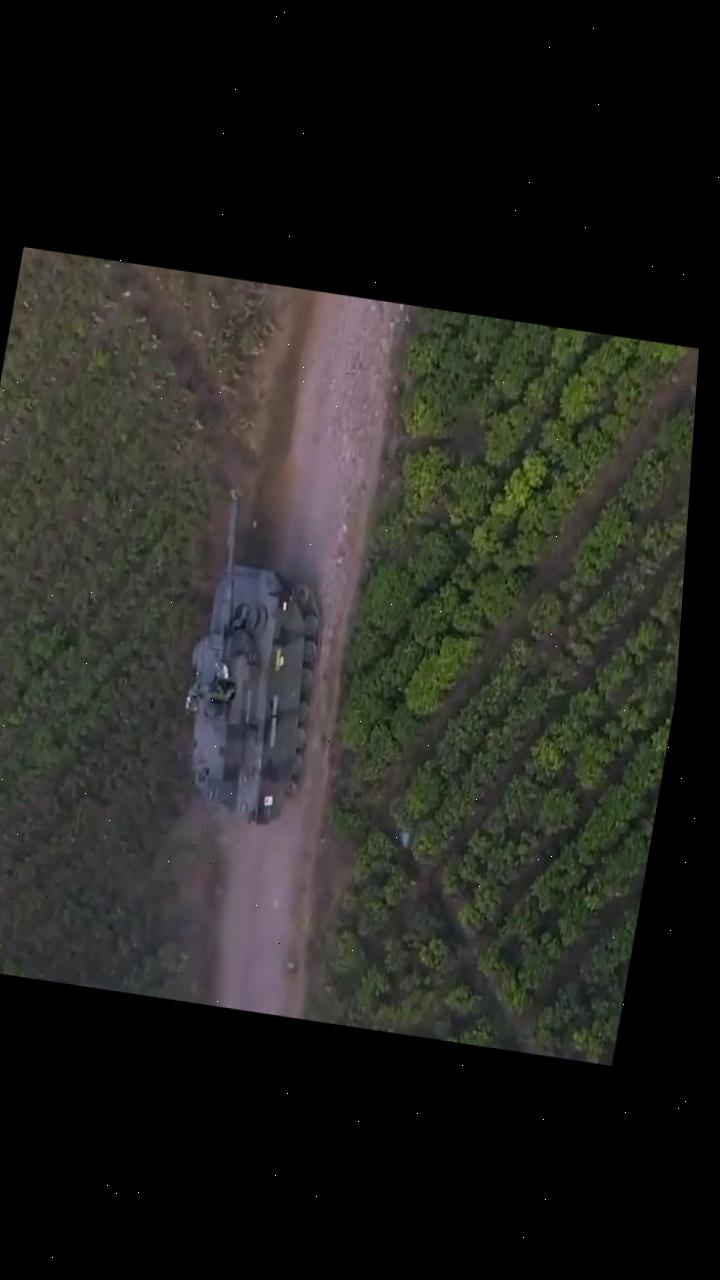tank: (158, 479, 352, 831)
